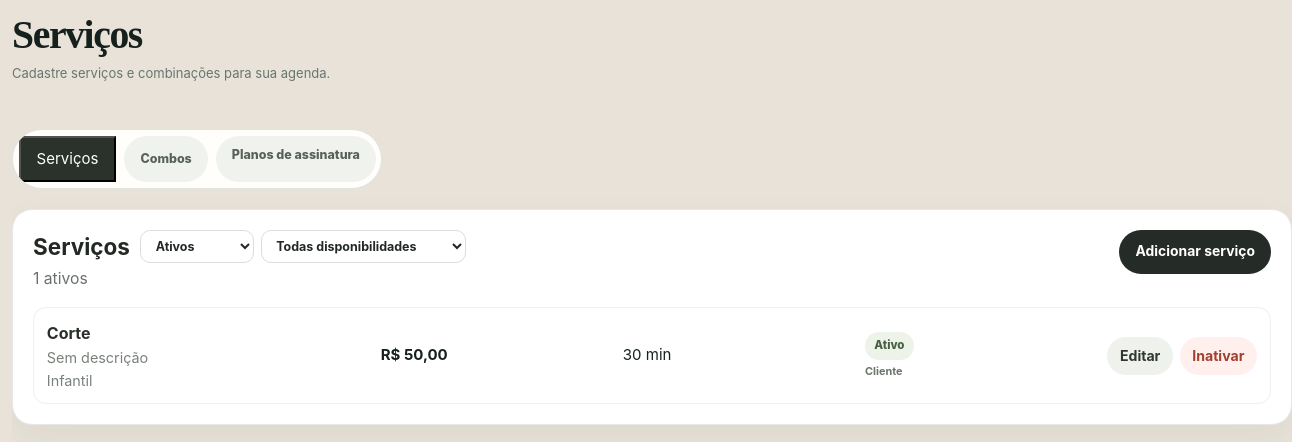
Test case: catálogo do gestor › separa serviços e pacotes em abas
Expected: the 2nd heading "Serviços" is shown, x1=33 y1=230 x2=130 y2=264
Expected: the heading "Pacotes" is not shown
Click the button "Combos".
click(166, 159)  # box x1=124 y1=136 x2=208 y2=182
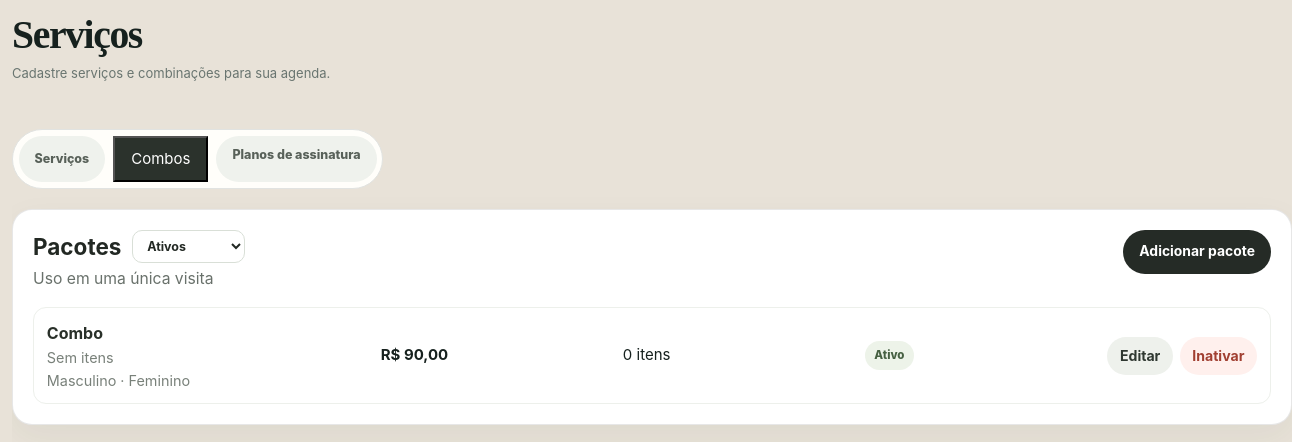
Expected: the heading "Pacotes" is shown, x1=33 y1=230 x2=121 y2=264
